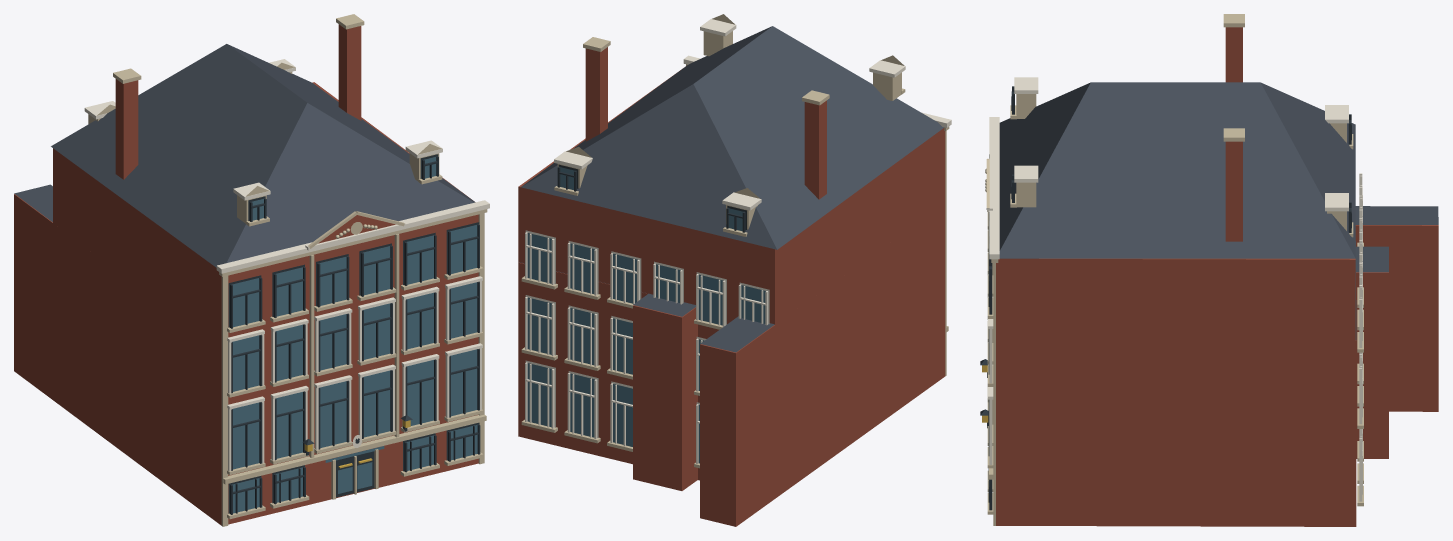
Rendered from kattenkabinet.glb.
The picture shows the model from 3 angles, left to right: view 1: azimuth 30°, elevation 25°; view 2: azimuth 150°, elevation 25°; view 3: azimuth 270°, elevation 25°; orthographic projection. The views are drawn at different scales.
Visible parts, largest first — view 1: kattenkabinet; view 2: kattenkabinet; view 3: kattenkabinet.
Boxes of the visible parts, left/top/right/bottom form: kattenkabinet: left=14, top=14, right=489, bottom=526; kattenkabinet: left=518, top=14, right=951, bottom=526; kattenkabinet: left=980, top=14, right=1438, bottom=526.
Size of the model in its own units: 15.31 by 19.85 by 21.54.
